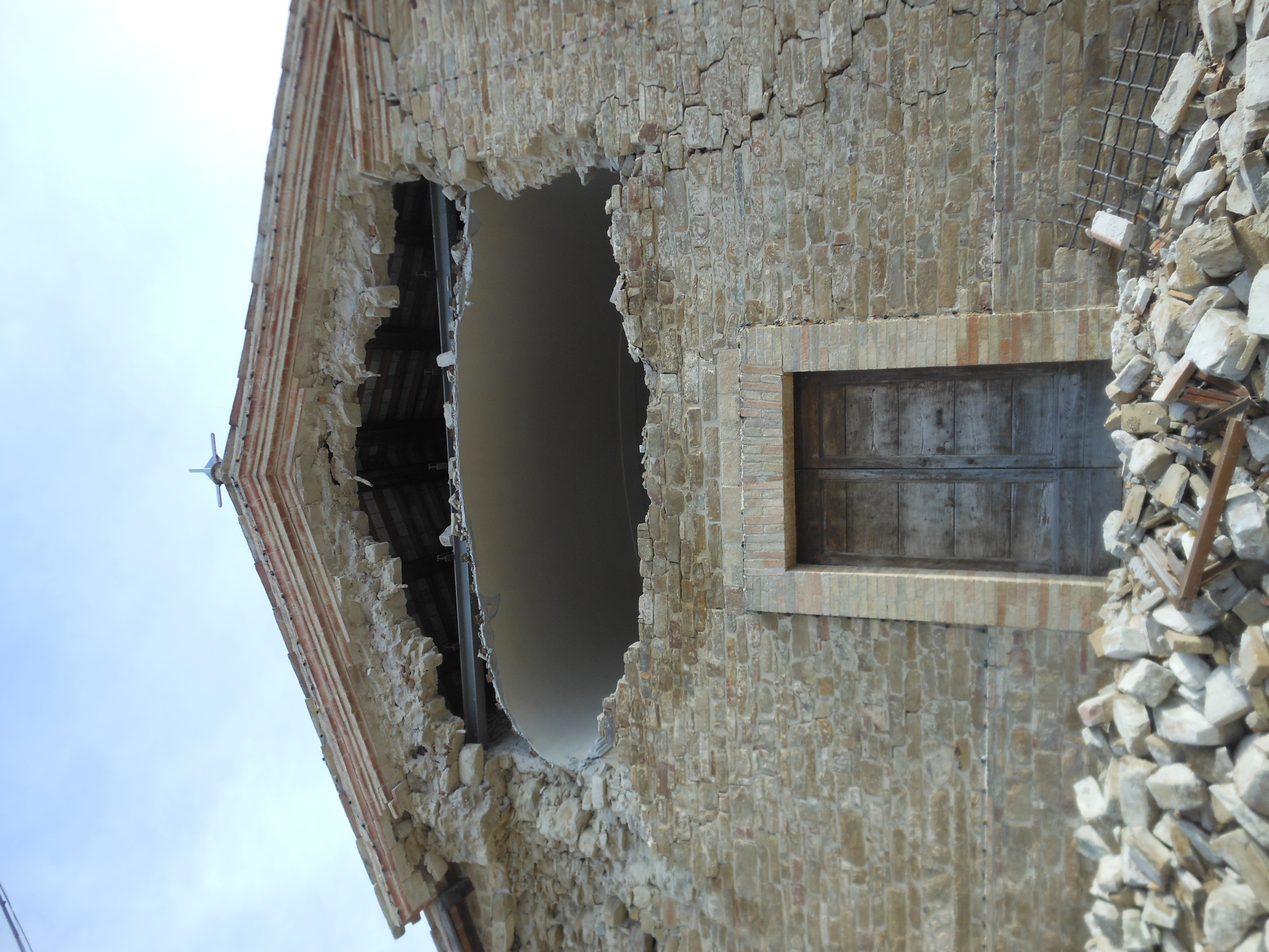Crack: (617, 5, 1128, 191), (622, 678, 874, 865), (305, 12, 470, 175)
Debris: (1072, 26, 1266, 947)
Other damage/mechanism: (326, 7, 685, 949)
Spalling: (622, 9, 1082, 182)
